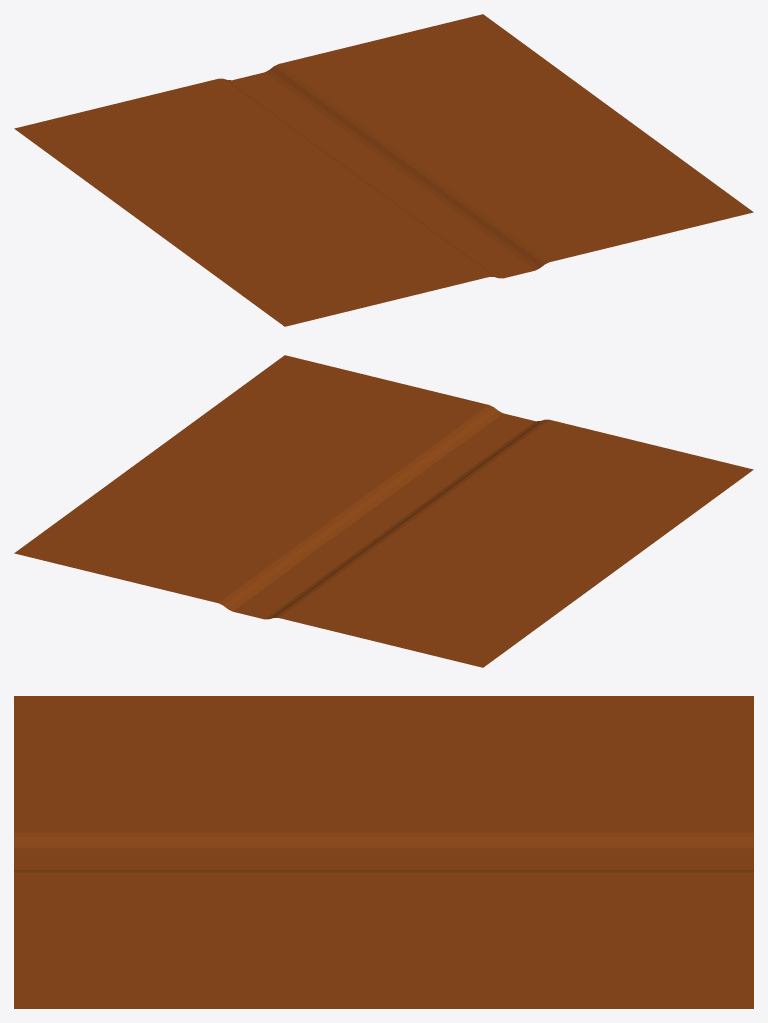
File: Terrain_Part_Plane_7.glb
The picture shows the model from 3 angles, top to bottom: view 1: azimuth 30°, elevation 25°; view 2: azimuth 150°, elevation 25°; view 3: azimuth 270°, elevation 25°; orthographic projection. The views are drawn at different scales.
Visible parts, largest first — view 1: Terrain_Part_Plane_7.001; view 2: Terrain_Part_Plane_7.001; view 3: Terrain_Part_Plane_7.001.
Boxes of the visible parts, x1=… form: Terrain_Part_Plane_7.001: x1=14, y1=14, x2=753, y2=326; Terrain_Part_Plane_7.001: x1=14, y1=355, x2=753, y2=667; Terrain_Part_Plane_7.001: x1=14, y1=696, x2=753, y2=1008.
Bounding box in the file's own units: 20 × 0.2 × 20.
